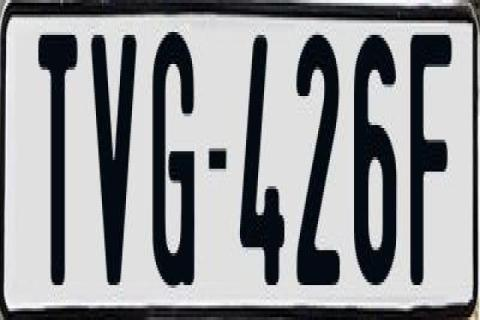0: (294, 29, 342, 297), (236, 29, 284, 279), (352, 26, 396, 294)
F: (410, 32, 452, 285)
G: (150, 24, 198, 288)
T: (36, 35, 80, 299)
V: (88, 32, 138, 300)
